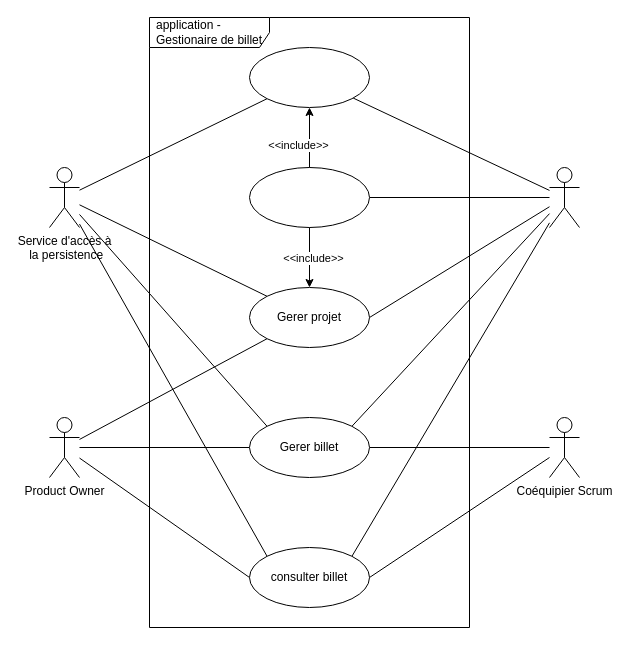
The diagram is 629 pixels wide and 645 high, and some of its shapes have lost their labels. The centre of each missing label's shape, as x and y in pixels:
assigner usager: the point at 309,197
Gerer usager: the point at 309,77
ScrumMaster: the point at 564,197
